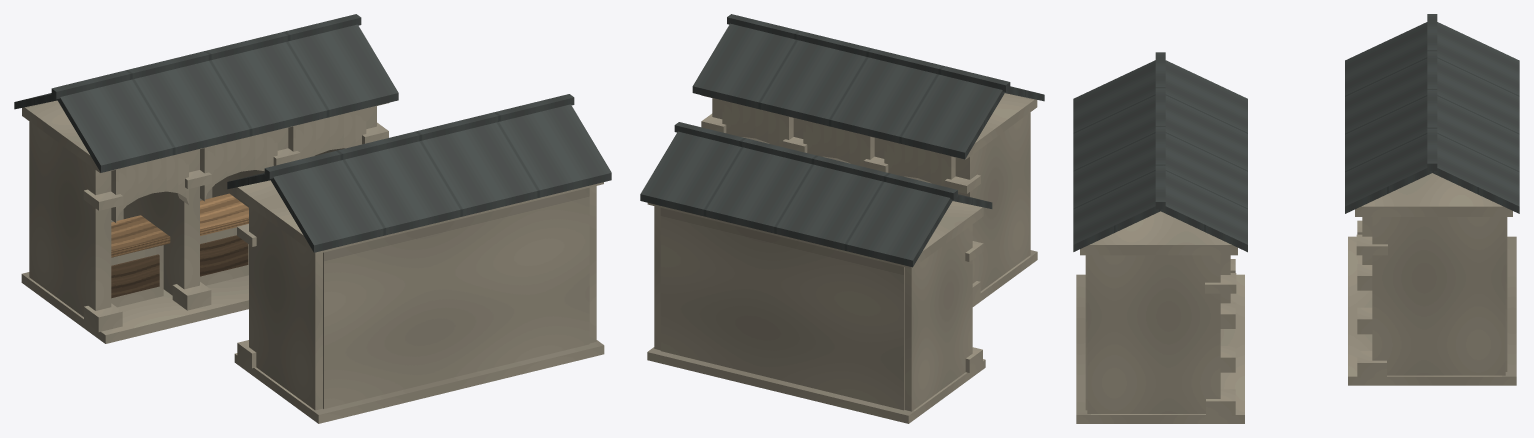
Rendered from kyrenia.glb.
3 renders of one model, left to right at view 1: azimuth 30°, elevation 25°; view 2: azimuth 150°, elevation 25°; view 3: azimuth 270°, elevation 25°, orthographic. The views are drawn at different scales.
Visible parts, largest first — view 1: kyrenia; view 2: kyrenia; view 3: kyrenia.
Boxes of the visible parts, x1=… form: kyrenia: x1=14, y1=14, x2=611, y2=423; kyrenia: x1=640, y1=14, x2=1044, y2=423; kyrenia: x1=1073, y1=14, x2=1519, y2=423.
Bounding box in the file's own units: 4.44 × 2.5 × 4.46.
Materials: 1 (1 with a texture image).
